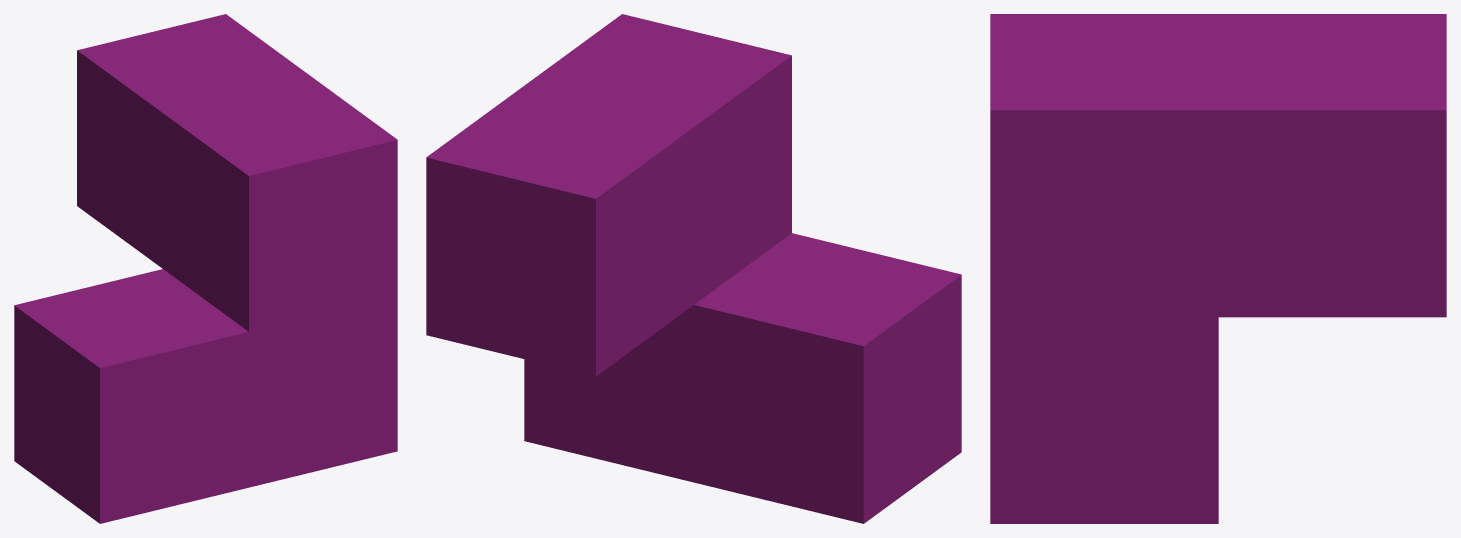
The model's file is Pieza-H.glb.
The picture shows the model from 3 angles, left to right: view 1: azimuth 30°, elevation 25°; view 2: azimuth 150°, elevation 25°; view 3: azimuth 270°, elevation 25°; orthographic projection. The views are drawn at different scales.
Visible parts, largest first — view 1: Pieza-H.stl; view 2: Pieza-H.stl; view 3: Pieza-H.stl.
Boxes of the visible parts, x1,y1,x2,y2 form: Pieza-H.stl: (14,14,397,523); Pieza-H.stl: (426,14,961,523); Pieza-H.stl: (990,14,1446,523).
Bounding box in the file's own units: 4 × 4 × 4.
